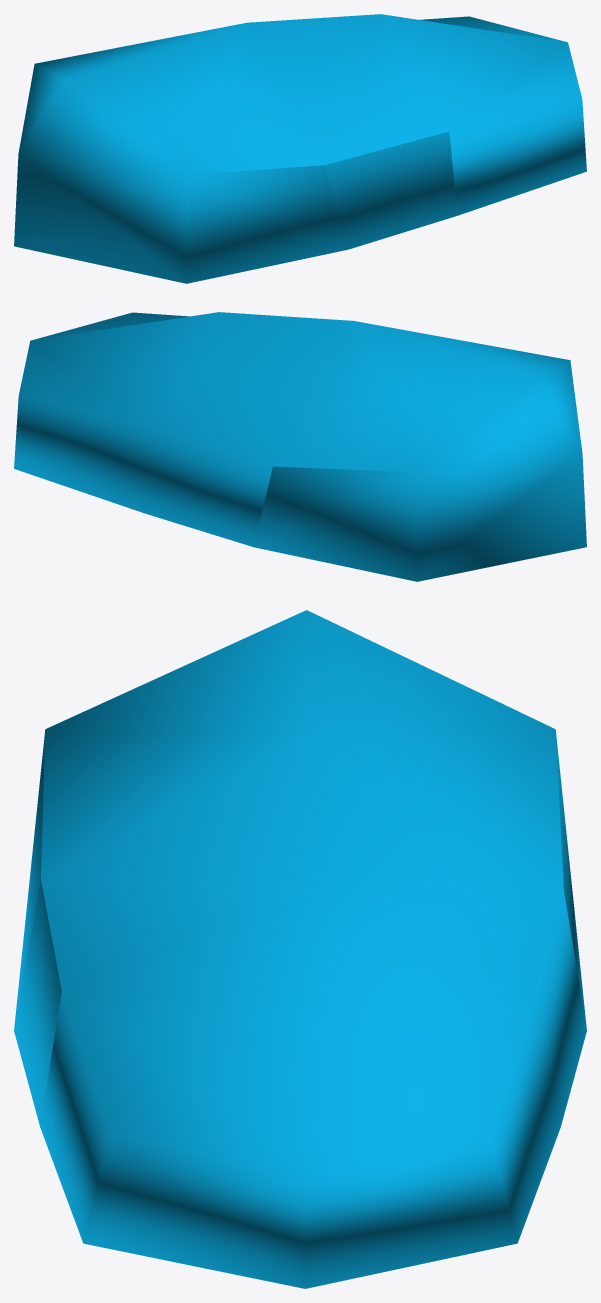
The model's file is Mouse_Lod2.fbx.
3 renders of one model, top to bottom at view 1: azimuth 30°, elevation 25°; view 2: azimuth 150°, elevation 25°; view 3: azimuth 270°, elevation 25°, orthographic. The views are drawn at different scales.
Visible parts, largest first — view 1: Mouse_Lod2; view 2: Mouse_Lod2; view 3: Mouse_Lod2.
Part boxes in pixels (x1,y1,x2,y2): Mouse_Lod2: (14,14,586,283); Mouse_Lod2: (14,312,586,581); Mouse_Lod2: (14,610,586,1288).
Size of the model in its own units: 18.42 by 5.25 by 9.69.
